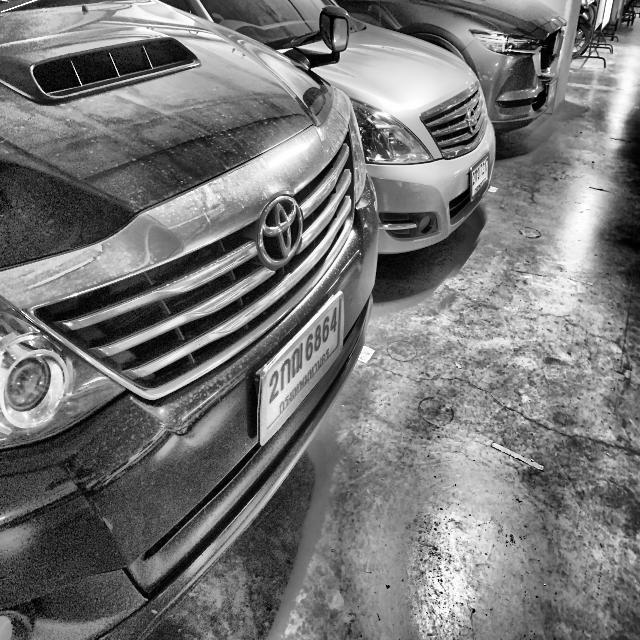license-plate: (255, 287, 348, 450), (465, 150, 493, 205), (546, 76, 559, 108)
